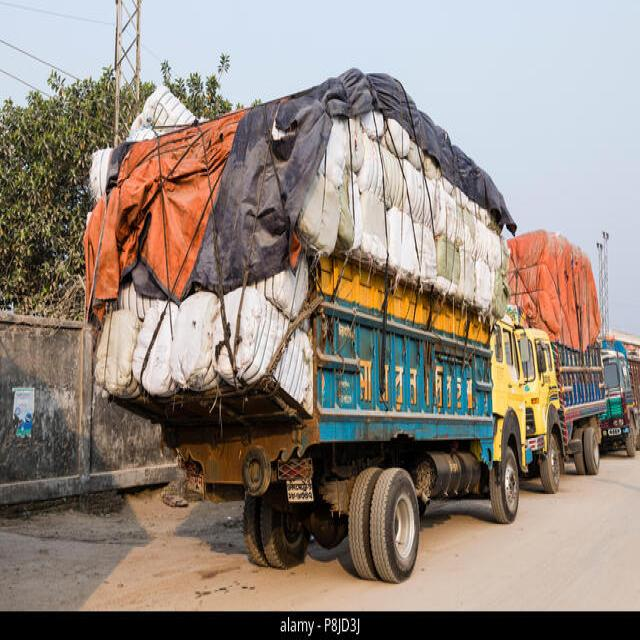goods: (84, 70, 514, 411), (508, 229, 601, 350)
truck: (120, 256, 525, 581), (514, 328, 606, 493)
